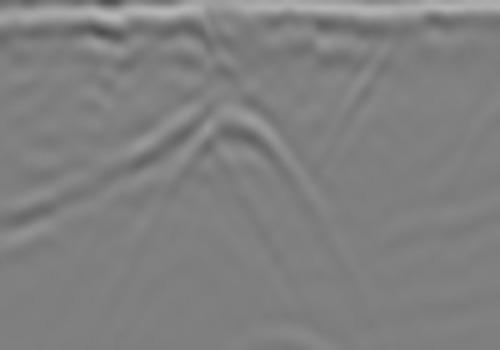hyperbola: (163, 100, 311, 227)
